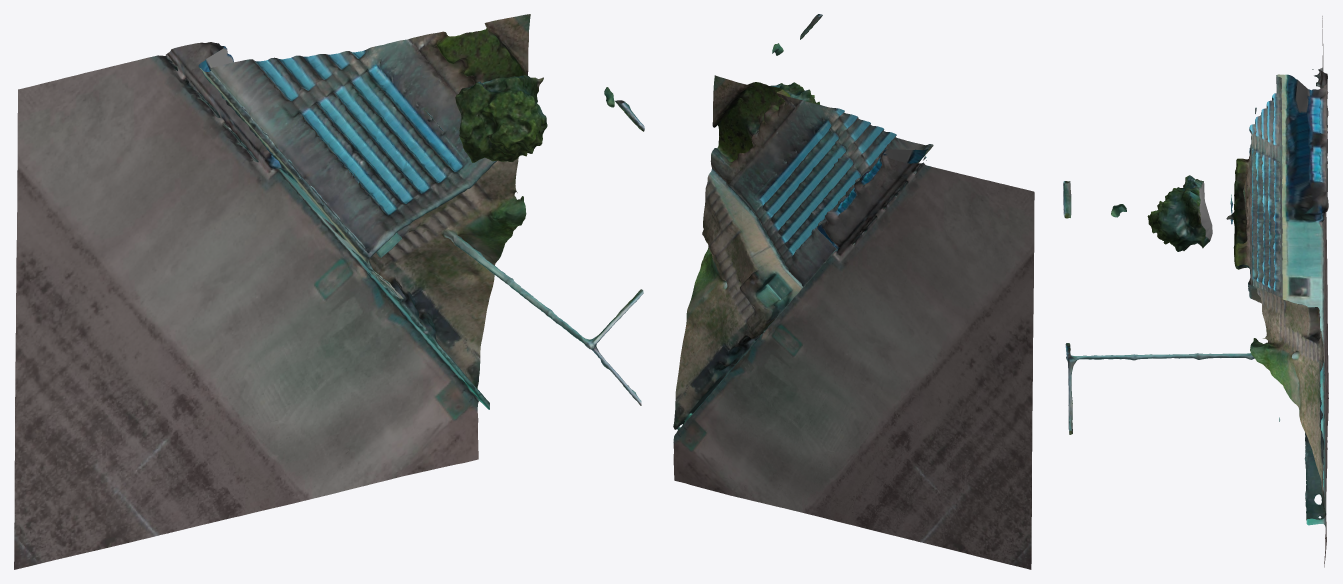
The model's file is Tile_+017_+009.fbx.
3 renders of one model, left to right at view 1: azimuth 30°, elevation 25°; view 2: azimuth 150°, elevation 25°; view 3: azimuth 270°, elevation 25°, orthographic. The views are drawn at different scales.
Parts seen in each view (by area): view 1: DefaultName; view 2: DefaultName; view 3: DefaultName.
Part boxes in pixels (left/top/right/bottom): DefaultName: left=14, top=14, right=644, bottom=569; DefaultName: left=673, top=14, right=1034, bottom=569; DefaultName: left=1063, top=16, right=1328, bottom=567.
Bounding box in the file's own units: 22.54 × 22.54 × 14.32.
